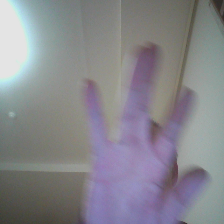hand: (78, 41, 213, 224)
